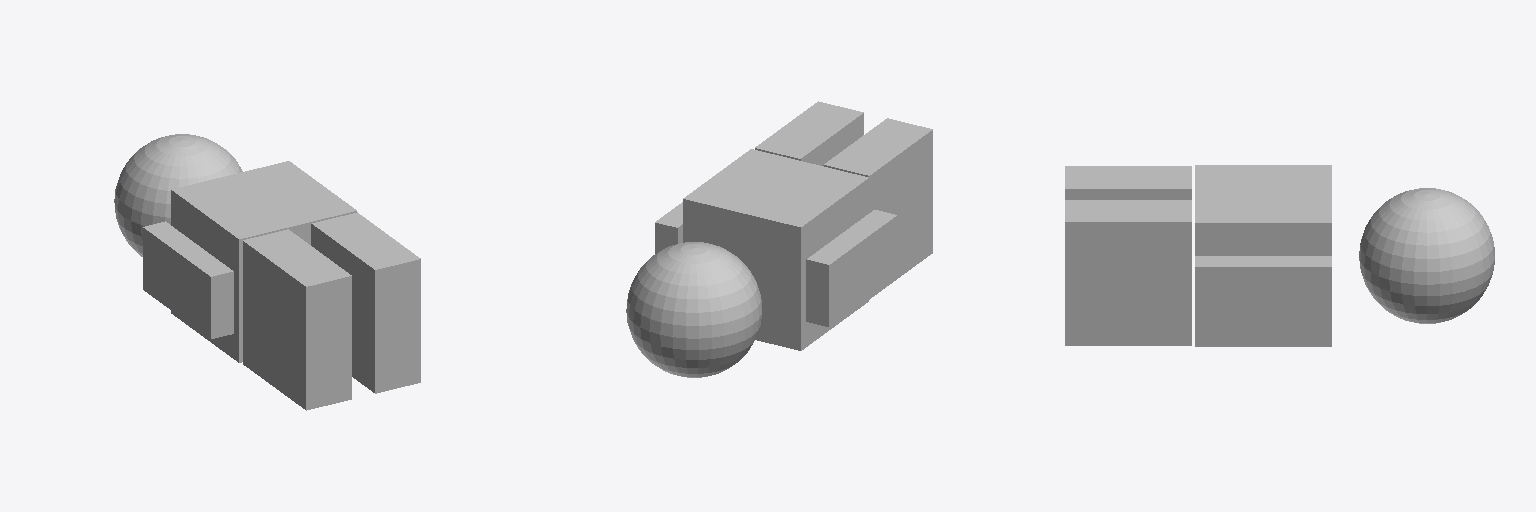
Rendered from sporty_robot_animation_000014.obj.
3 views of the same model, side by side, from view 1: azimuth 30°, elevation 25°; view 2: azimuth 150°, elevation 25°; view 3: azimuth 270°, elevation 25° (orthographic).
Visible parts, largest first — view 1: Cube.002, Cube.001_Cube.005, Cube, Sphere.001, Cube.004; view 2: Cube, Sphere.001, Cube.002, Cube.004, Cube.001_Cube.005, Cube.003; view 3: Cube.001_Cube.005, Cube, Sphere.001, Cube.003, Cube.002.
Boxes of the visible parts, x1,y1,x2,y2 form: Cube.002: [243, 229, 351, 410]; Cube.001_Cube.005: [311, 212, 420, 393]; Cube: [171, 161, 356, 362]; Sphere.001: [114, 134, 242, 256]; Cube.004: [143, 221, 233, 338]; Cube: [683, 149, 868, 350]; Sphere.001: [626, 242, 761, 377]; Cube.002: [823, 118, 932, 299]; Cube.004: [806, 210, 897, 327]; Cube.001_Cube.005: [755, 101, 863, 165]; Cube.003: [655, 202, 682, 253]; Cube.001_Cube.005: [1065, 200, 1191, 345]; Cube: [1195, 165, 1331, 346]; Sphere.001: [1359, 188, 1494, 323]; Cube.003: [1195, 256, 1331, 329]; Cube.002: [1065, 166, 1191, 199].
Bounding box in the file's own units: 0.76 × 0.514 × 1.62.